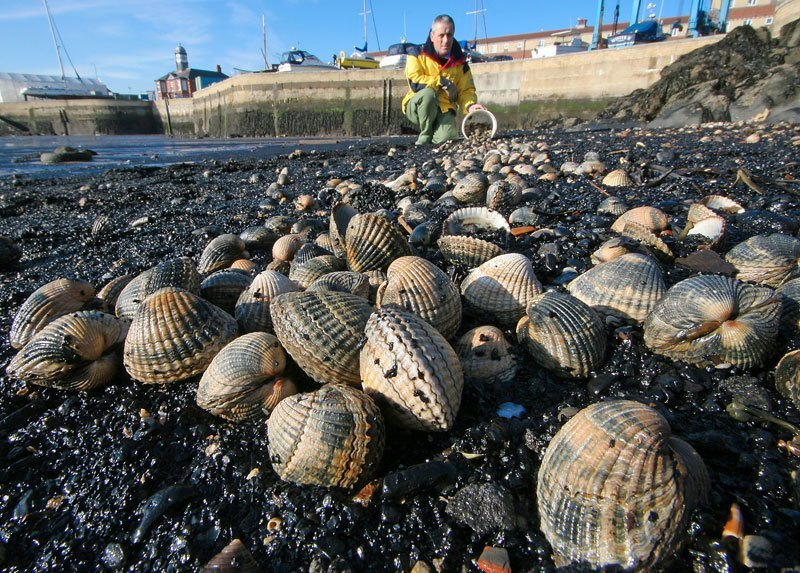cockle: (528, 397, 708, 570), (642, 275, 788, 373), (358, 307, 465, 439), (264, 382, 386, 490), (121, 286, 241, 389), (267, 289, 378, 389), (4, 310, 131, 394), (194, 330, 297, 422), (379, 255, 467, 349), (515, 289, 608, 376), (564, 254, 667, 326), (8, 276, 104, 347), (455, 249, 548, 315), (725, 231, 800, 280), (458, 321, 518, 382), (195, 231, 251, 276), (450, 170, 491, 205), (484, 179, 525, 211)
